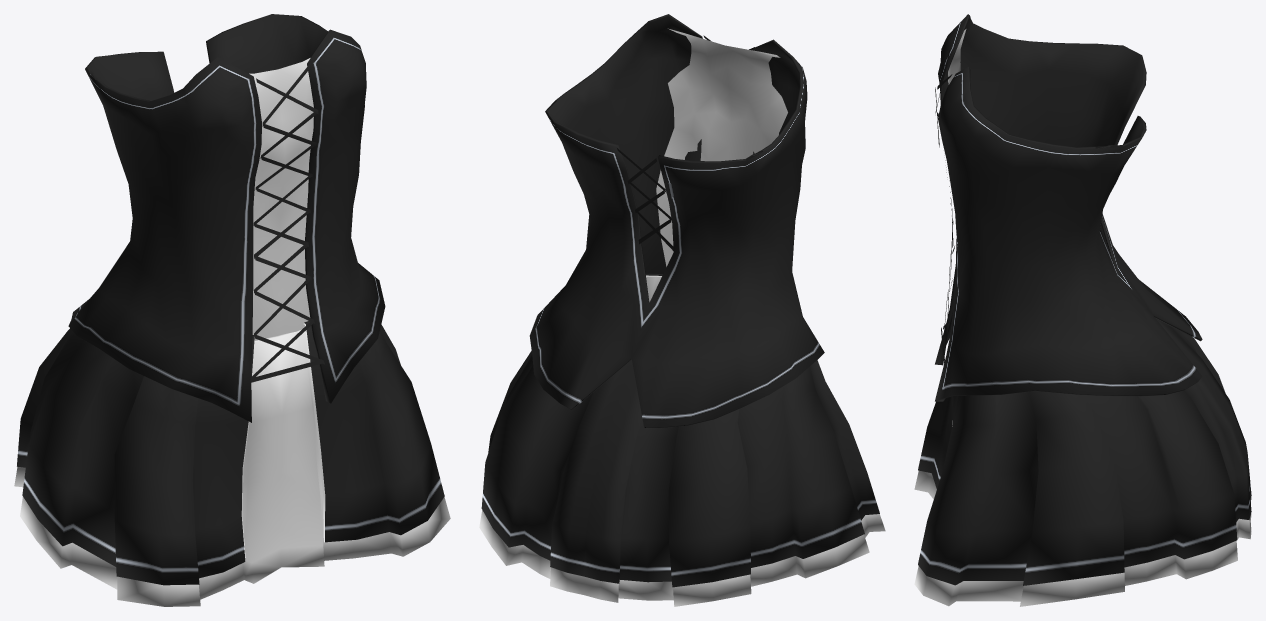
Rendered from Dress-Top-Skirt.fbx.
3 renders of one model, left to right at view 1: azimuth 30°, elevation 25°; view 2: azimuth 150°, elevation 25°; view 3: azimuth 270°, elevation 25°, orthographic. The views are drawn at different scales.
Parts seen in each view (by area): view 1: カスタム少女_mesh; view 2: カスタム少女_mesh; view 3: カスタム少女_mesh.
Part boxes in pixels (box(x1,y1,x2,y2)): カスタム少女_mesh: box(14, 14, 450, 606); カスタム少女_mesh: box(479, 14, 885, 606); カスタム少女_mesh: box(914, 14, 1251, 606).
Bounding box in the file's own units: 39.1 × 52.18 × 31.9.
4 materials, 3 textured.
